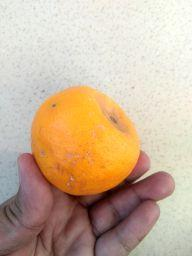Unripe: (33, 87, 139, 195)
